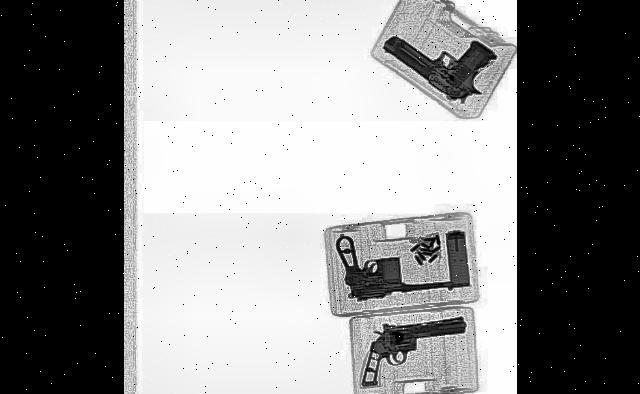Gun: (378, 0, 497, 128), (332, 222, 456, 306), (359, 314, 467, 390)
